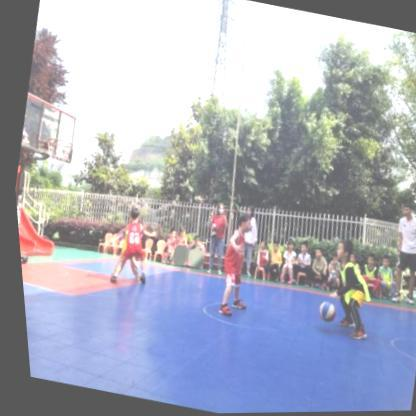basketball: (310, 300, 332, 324)
